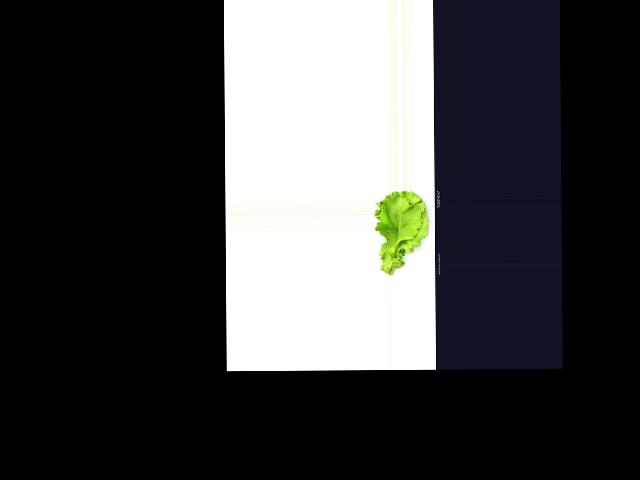lettuce: (373, 190, 433, 273)
